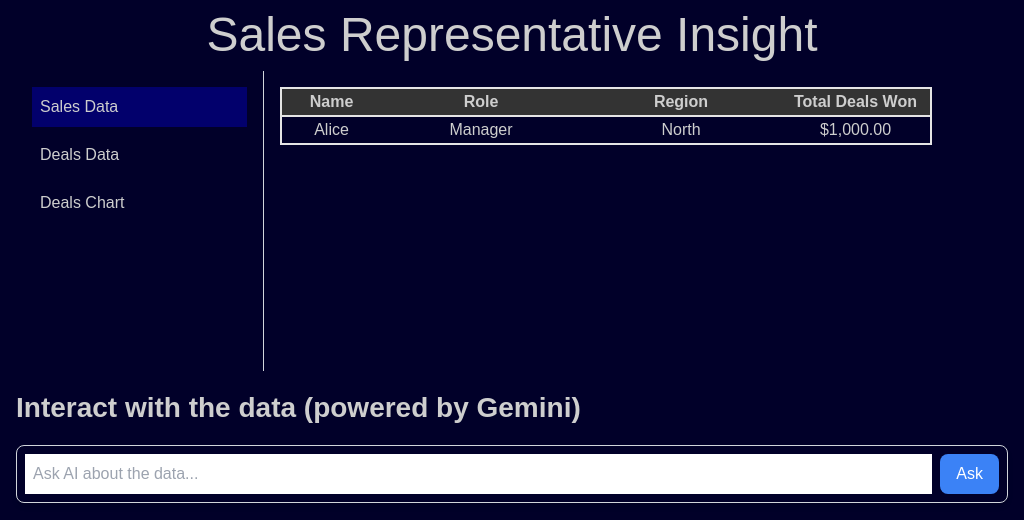
Test case: Home Component › updates selected type and renders corresponding content
The width and height of the screenshot is (1024, 520).
Expected: the text "Alice" is shown, x1=281 y1=116 x2=381 y2=144
Click the button "Deals Data": (140, 155) x1=32 y1=135 x2=247 y2=175
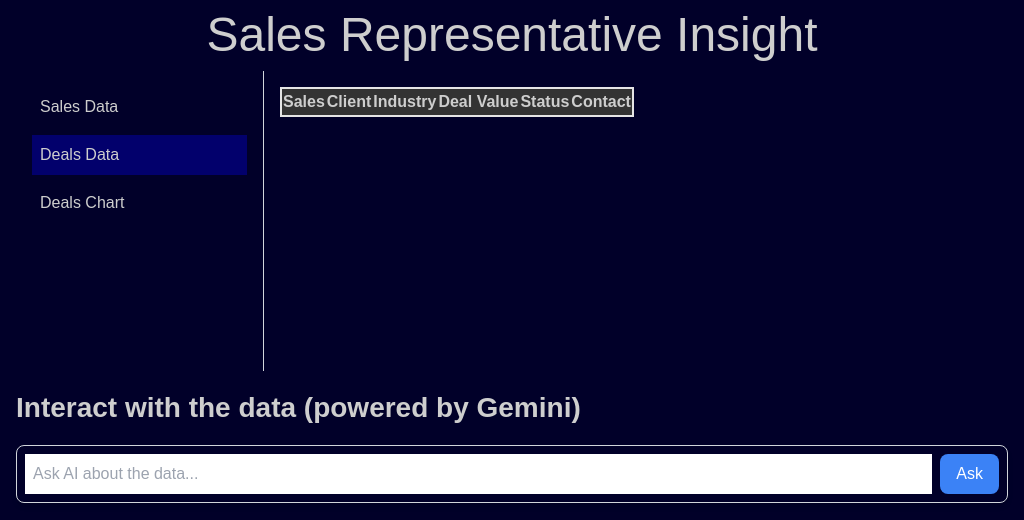
Expected: the column heading "Sales" is shown, x1=281 y1=88 x2=326 y2=116
